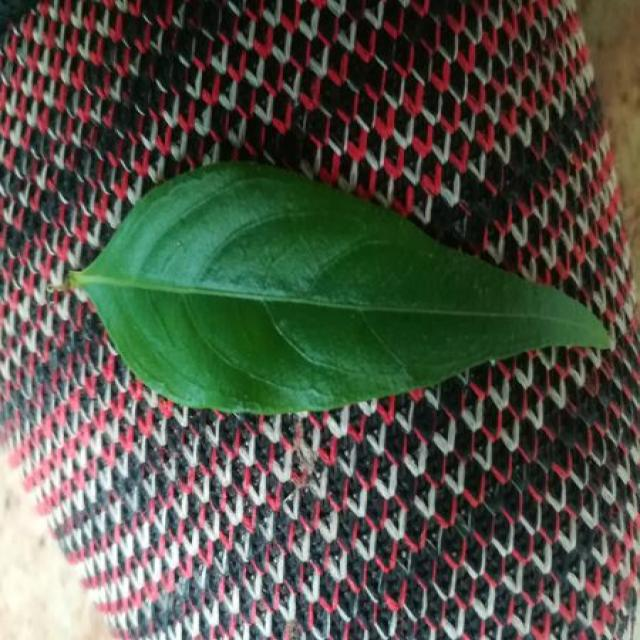Nelavembu: (70, 165, 608, 413)
